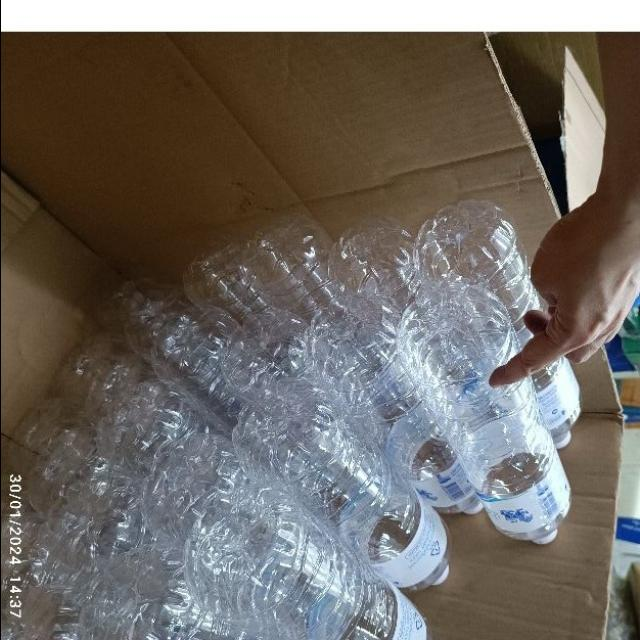plastik: (405, 187, 595, 455), (232, 382, 447, 590), (399, 281, 569, 542), (310, 293, 479, 514), (185, 484, 397, 640)
